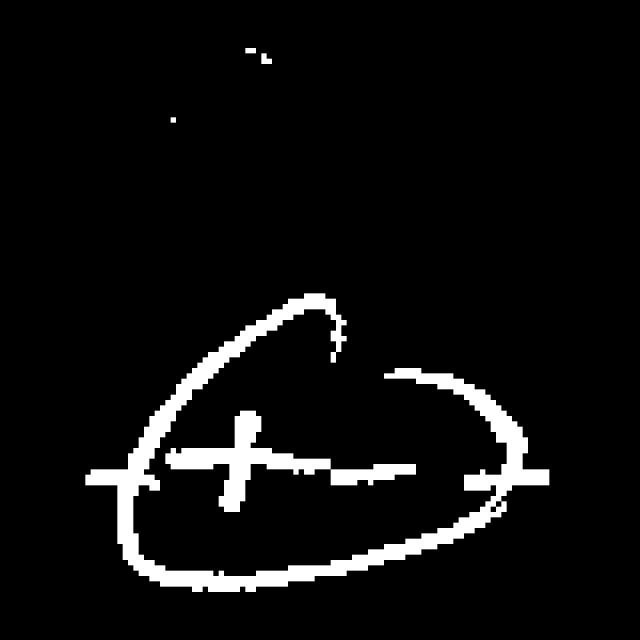voltage_source: (107, 263, 531, 609)
